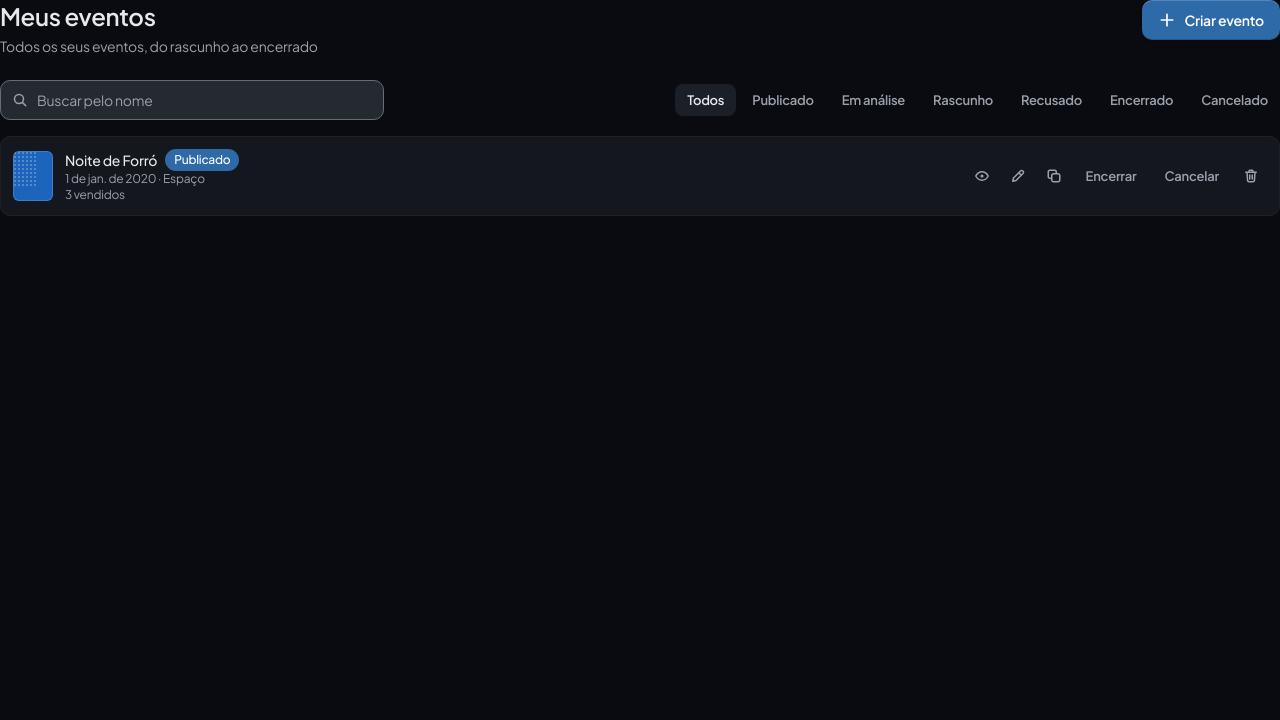
Test: Todos os eventos (tela 02) › Encerrar com venda e data já passada abre a janela
Step 1. Click the button with aria-label "Encerrar Noite de Forró" → [1111, 176], box [1074,160,1149,192]
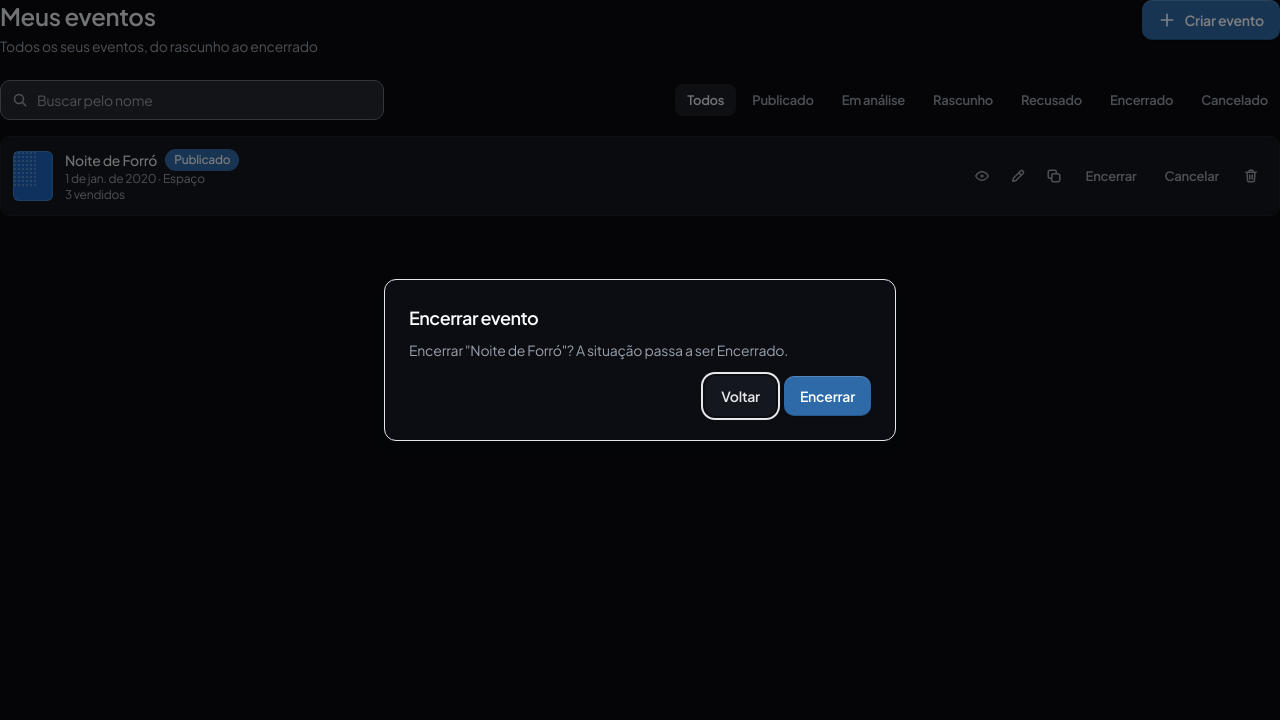
Now the dialog is shown, box [384,279,896,441]
